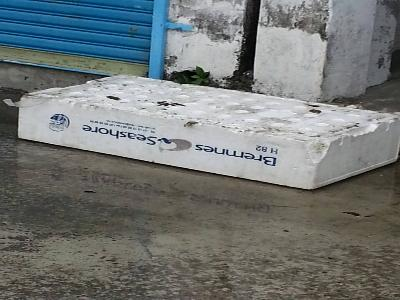styrofoam: (16, 71, 400, 194)
